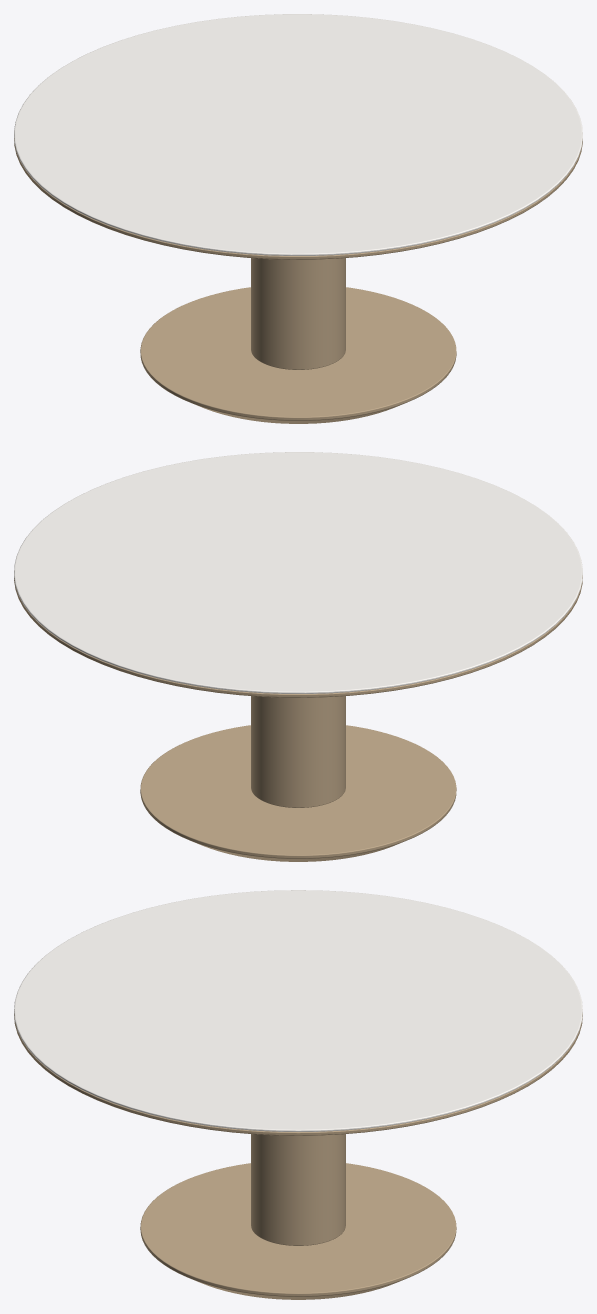
Rendered from orbit_d90h40_proposta.glb.
3 renders of one model, top to bottom at view 1: azimuth 30°, elevation 25°; view 2: azimuth 150°, elevation 25°; view 3: azimuth 270°, elevation 25°, orthographic.
Parts seen in each view (by area): view 1: Top Orbit Coffee Table 026, Base Orbit Coffee Table 026, Base Element Orbit Coffee Table 029, Undertop Orbit Coffee Table 026; view 2: Top Orbit Coffee Table 026, Base Orbit Coffee Table 026, Base Element Orbit Coffee Table 029, Undertop Orbit Coffee Table 026; view 3: Top Orbit Coffee Table 026, Base Orbit Coffee Table 026, Base Element Orbit Coffee Table 029, Undertop Orbit Coffee Table 026.
Part boxes in pixels (left/top/right/bottom): Top Orbit Coffee Table 026: left=14, top=14, right=582, bottom=255; Base Orbit Coffee Table 026: left=140, top=287, right=456, bottom=423; Base Element Orbit Coffee Table 029: left=251, top=258, right=345, bottom=369; Undertop Orbit Coffee Table 026: left=14, top=138, right=582, bottom=259; Top Orbit Coffee Table 026: left=14, top=452, right=582, bottom=693; Base Orbit Coffee Table 026: left=140, top=725, right=456, bottom=861; Base Element Orbit Coffee Table 029: left=251, top=696, right=345, bottom=807; Undertop Orbit Coffee Table 026: left=14, top=576, right=582, bottom=697; Top Orbit Coffee Table 026: left=14, top=890, right=582, bottom=1131; Base Orbit Coffee Table 026: left=140, top=1163, right=456, bottom=1299; Base Element Orbit Coffee Table 029: left=251, top=1134, right=345, bottom=1245; Undertop Orbit Coffee Table 026: left=14, top=1013, right=582, bottom=1135.
Size of the model in its own units: 0.9 by 0.404 by 0.9.
